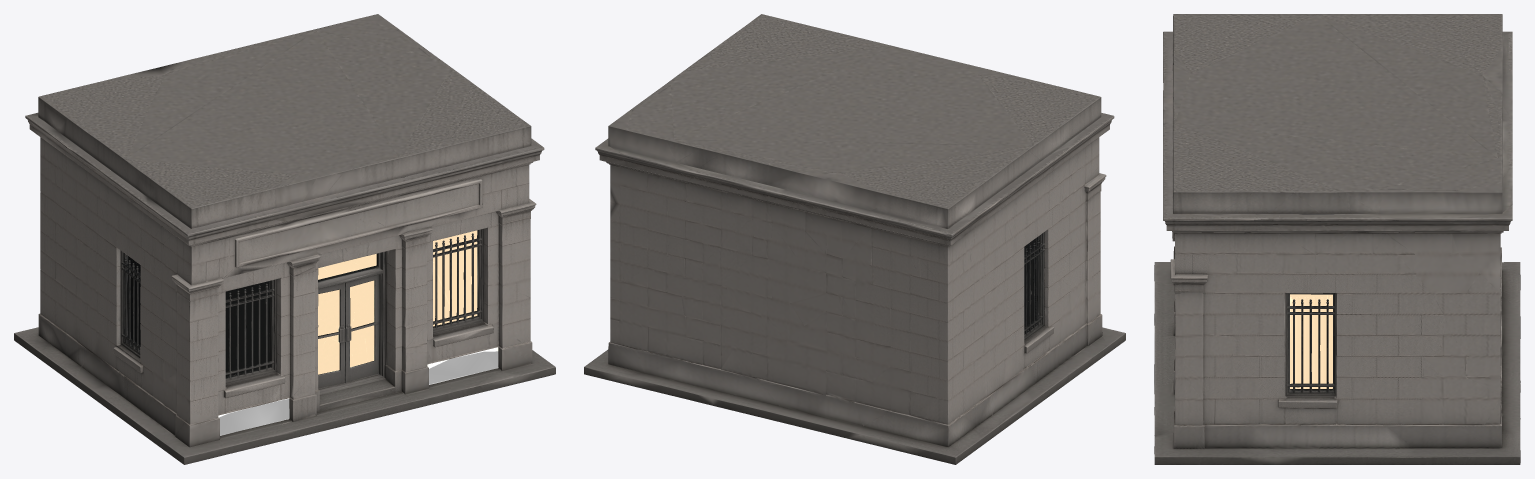
Rendered from civic-bank.glb.
The picture shows the model from 3 angles, left to right: view 1: azimuth 30°, elevation 25°; view 2: azimuth 150°, elevation 25°; view 3: azimuth 270°, elevation 25°; orthographic projection. The views are drawn at different scales.
Size of the model in its own units: 11.06 by 7 by 8.77.
Materials: 3 (3 with a texture image).
